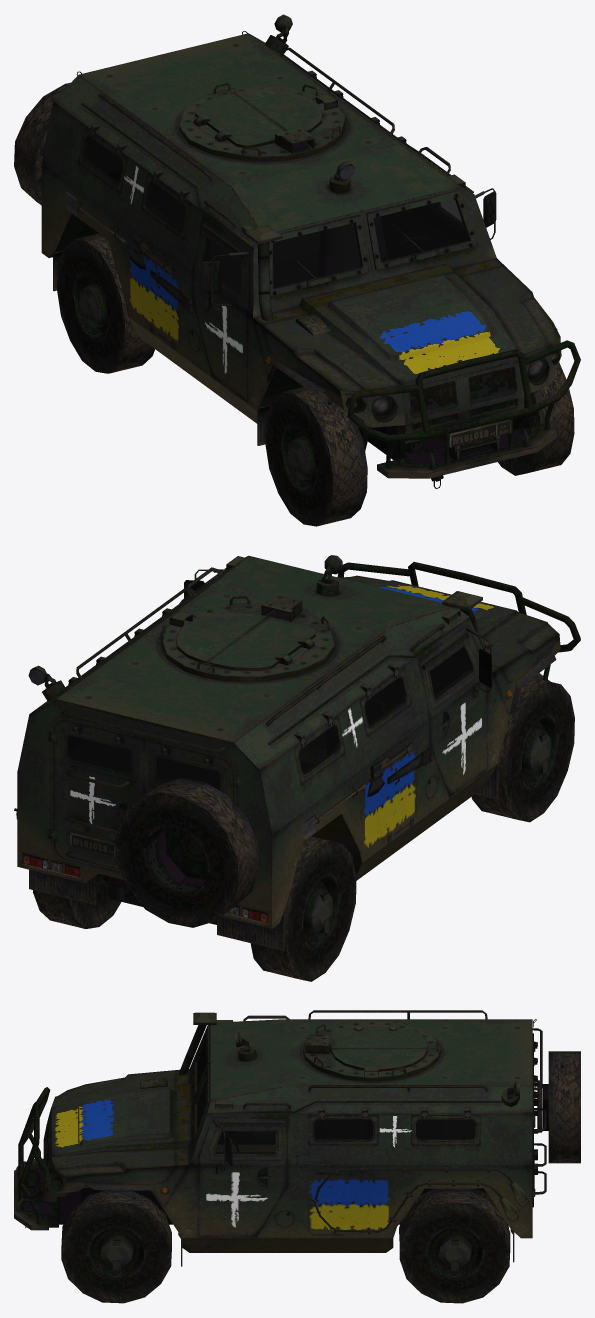
File: gac2.glb
The picture shows the model from 3 angles, top to bottom: view 1: azimuth 30°, elevation 25°; view 2: azimuth 150°, elevation 25°; view 3: azimuth 270°, elevation 25°; orthographic projection. The views are drawn at different scales.
Parts seen in each view (by area): view 1: Body, WheelFR, glass, WheelBR, WheelFL; view 2: Body, WheelBR, WheelFR, glass, WheelBL; view 3: Body, WheelFL, WheelBL, glass.
Part boxes in pixels (x1=…): Body: x1=14, y1=14, x2=580, y2=488; WheelFR: x1=265, y1=387, x2=367, y2=526; glass: x1=83, y1=136, x2=468, y2=291; WheelBR: x1=57, y1=233, x2=154, y2=373; WheelFL: x1=498, y1=362, x2=574, y2=475; Body: x1=14, y1=555, x2=580, y2=951; WheelBR: x1=250, y1=836, x2=356, y2=981; WheelFR: x1=471, y1=677, x2=574, y2=822; glass: x1=67, y1=646, x2=473, y2=790; WheelBL: x1=33, y1=874, x2=121, y2=928; Body: x1=14, y1=1010, x2=580, y2=1266; WheelFL: x1=61, y1=1190, x2=171, y2=1303; WheelBL: x1=399, y1=1189, x2=510, y2=1303; glass: x1=197, y1=1040, x2=475, y2=1153.
Size of the model in its own units: 7.52 by 6.7 by 15.46.
Materials: 2 (1 with a texture image).
